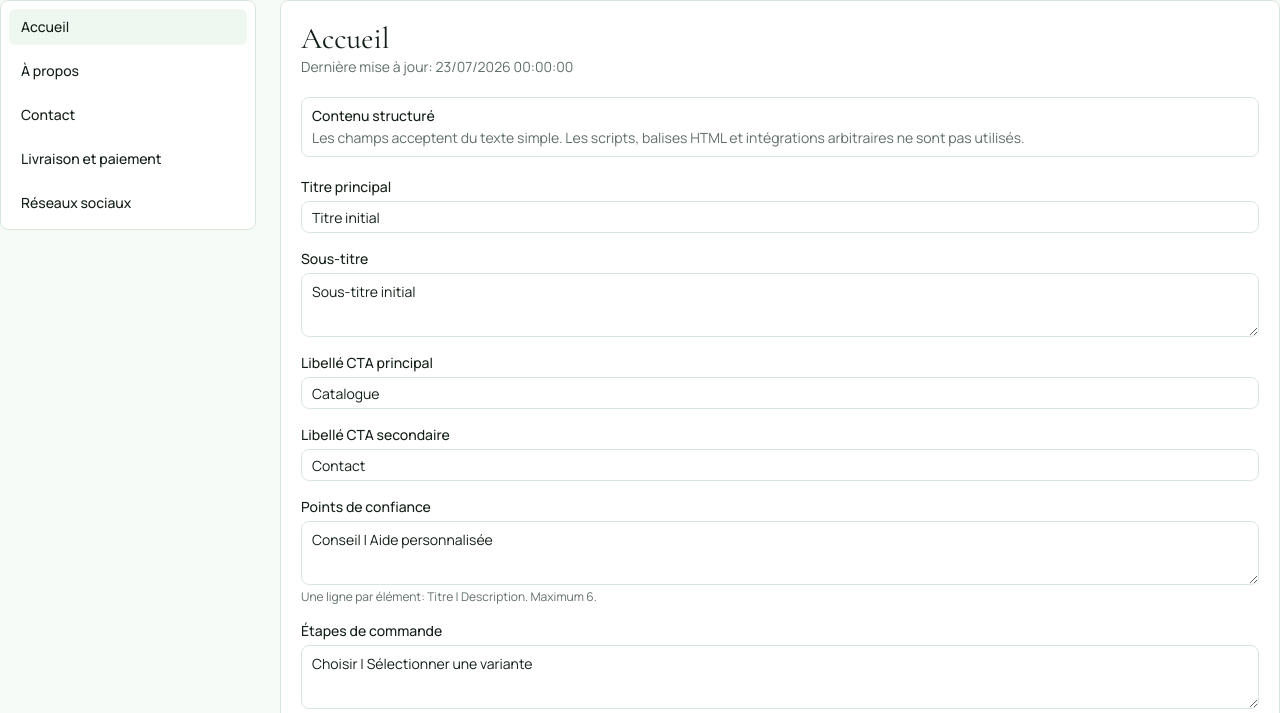
Test: ContentEditor controlled fields › renders initial values and edits Titre principal without Base UI default-value warnings
Step 1. Replace the text in the field labelled "Titre principal" with "Titre modifié" → (780, 217), box x1=301 y1=201 x2=1259 y2=233
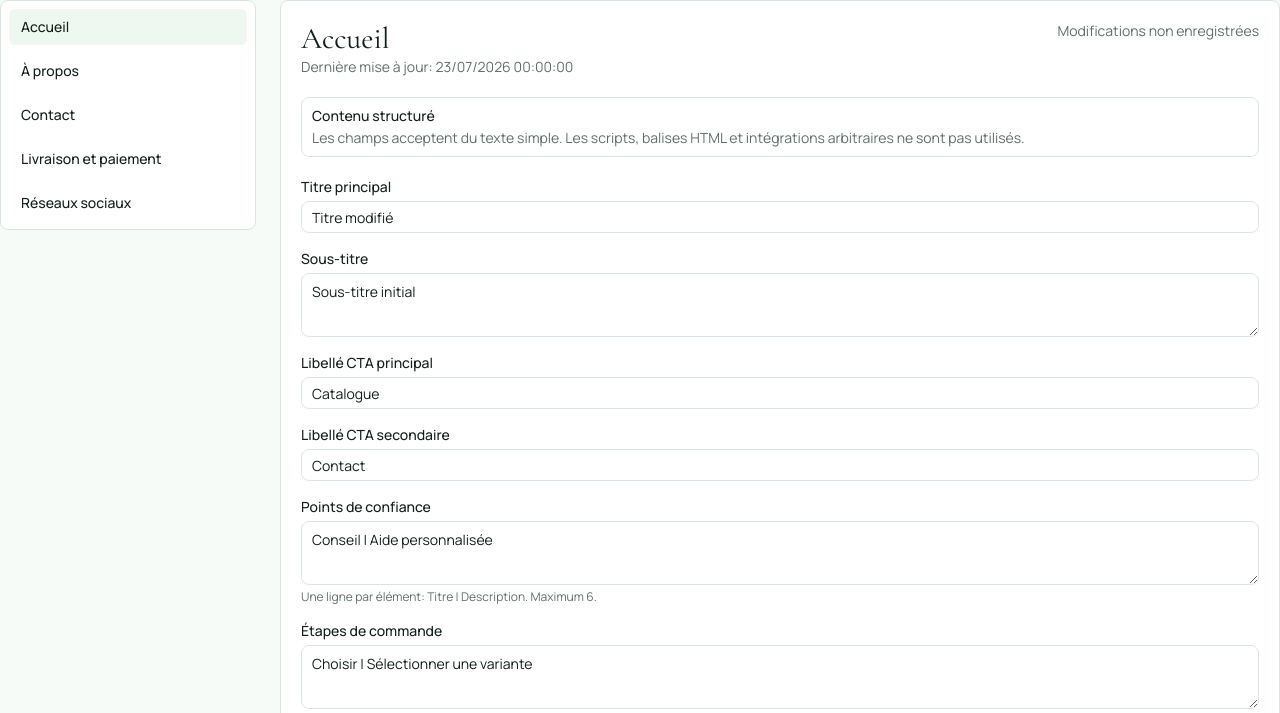
Expected: the text "Modifications non enregistrées" is shown, x1=1058 y1=21 x2=1259 y2=41
